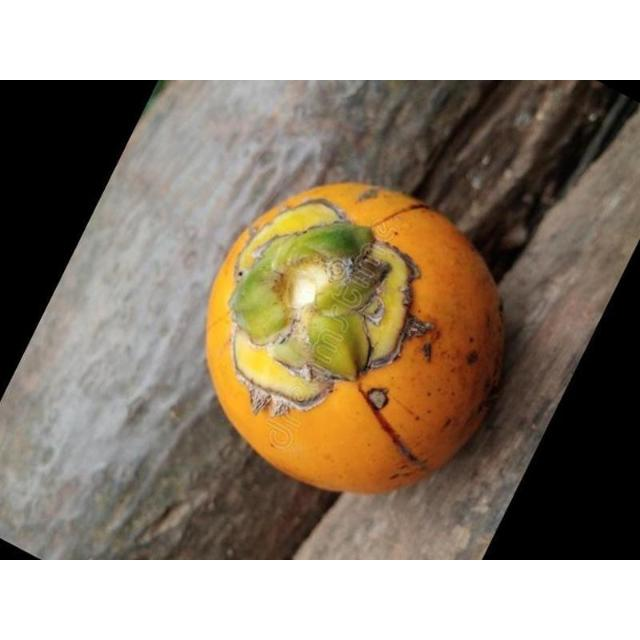good: (206, 183, 507, 497)
